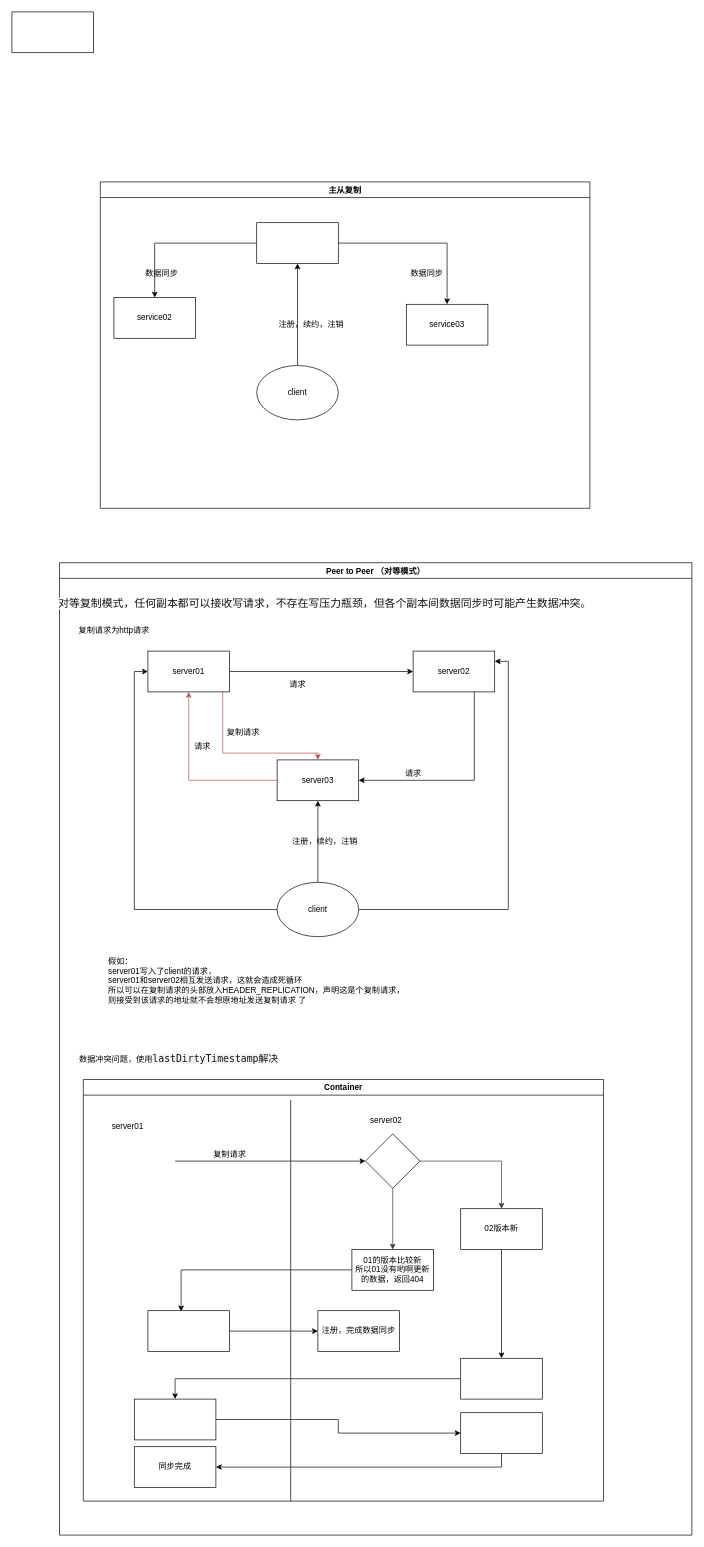
The diagram is 704 pixels wide and 1547 high, and some of its shapes have lost their labels. The shapes that lost their labels are listed below. From the top down, each one's centre as x and y in pixels, then its label:
At pixel 52 32: "ap架构".
At pixel 297 243: "server01（主）".
At pixel 392 1160: "比较版本号 01>02".
At pixel 188 1331: "发送实例注册请求".
At pixel 501 1378: "返回我的数据新的消息".
At pixel 175 1419: "发送复制请求".
At pixel 501 1433: "返回01没有的数据".
